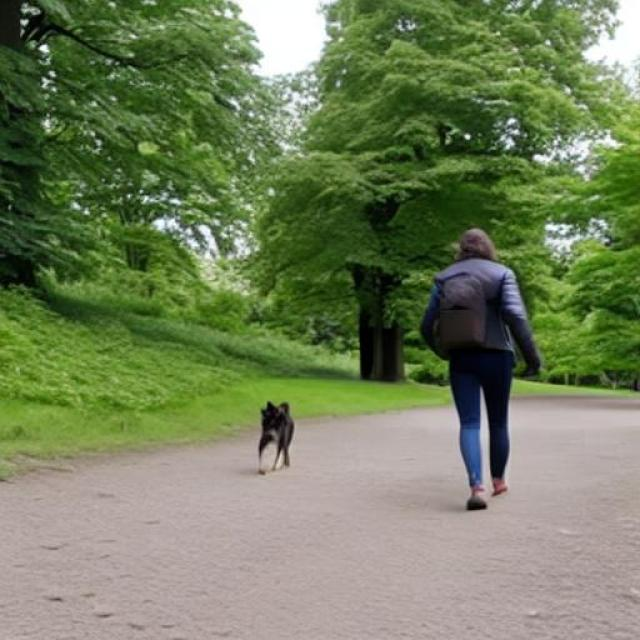Unleashed_Dog: (256, 361, 481, 478)
